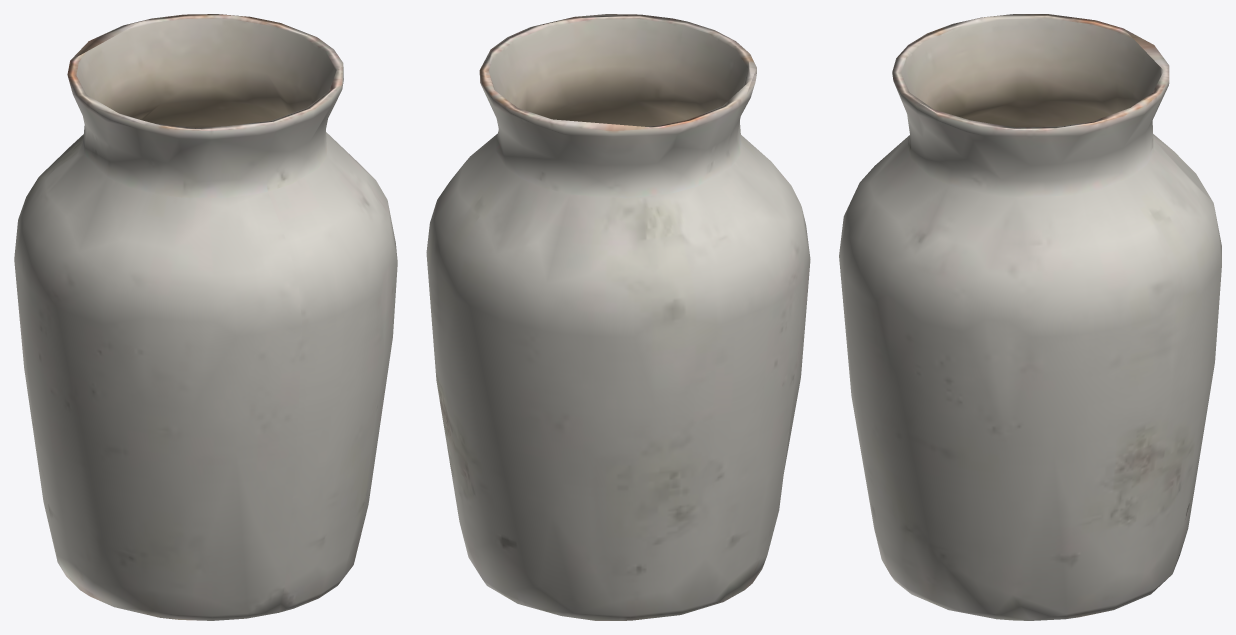
The model's file is ceramic_vase_02.glb.
3 renders of one model, left to right at view 1: azimuth 30°, elevation 25°; view 2: azimuth 150°, elevation 25°; view 3: azimuth 270°, elevation 25°, orthographic.
Parts seen in each view (by area): view 1: ceramic_vase_02; view 2: ceramic_vase_02; view 3: ceramic_vase_02.
Part boxes in pixels (x1,y1,x2,y2): ceramic_vase_02: (14,14,397,620); ceramic_vase_02: (426,14,810,620); ceramic_vase_02: (839,14,1221,620).
Size of the model in its own units: 0.2183 by 0.3091 by 0.2176.
Materials: 1 (1 with a texture image).
